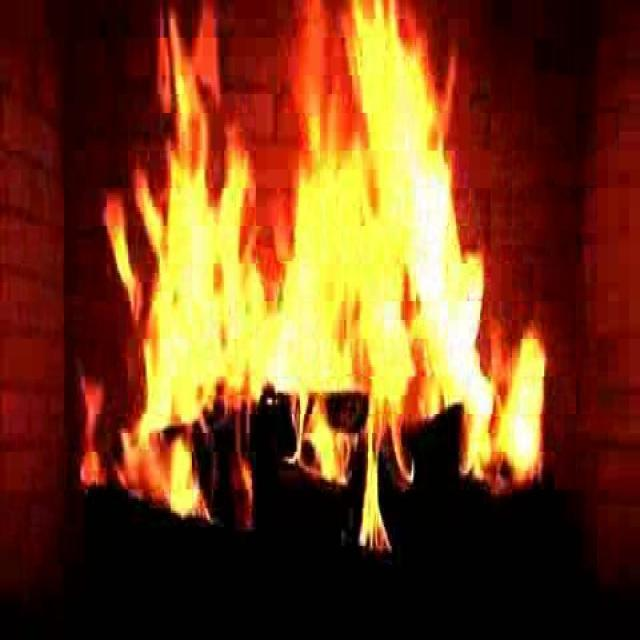Fire: (115, 40, 541, 532)
